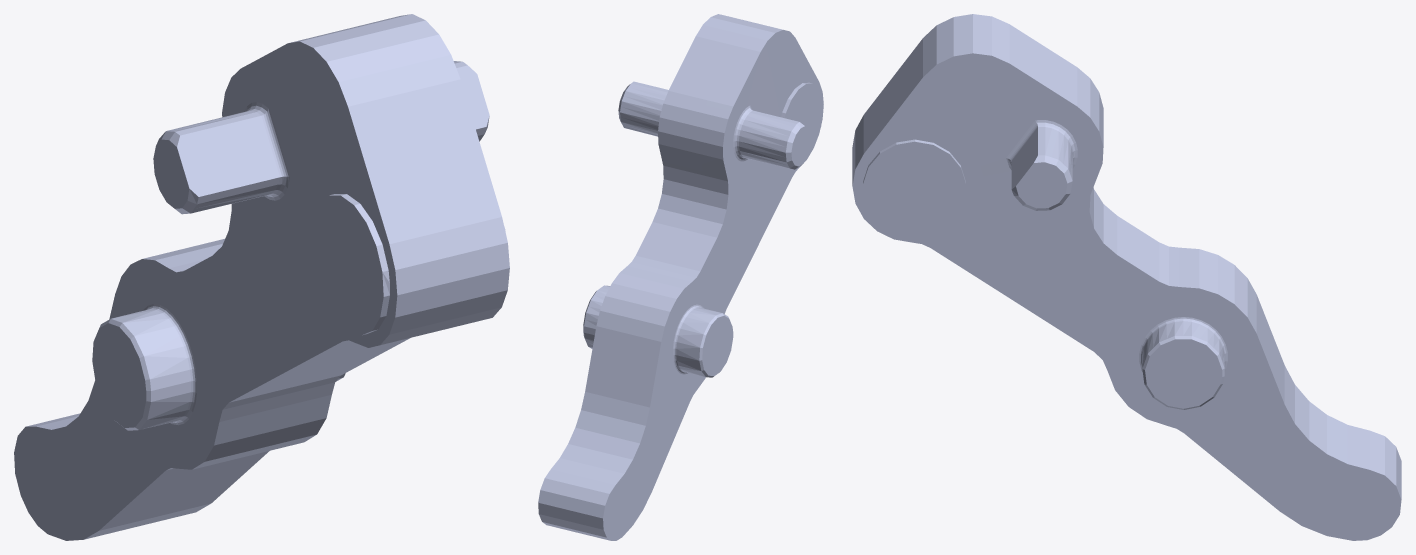
Rendered from robotiq_arg2f_140_outer_knuckle_vis.obj.
The picture shows the model from 3 angles, left to right: view 1: azimuth 30°, elevation 25°; view 2: azimuth 150°, elevation 25°; view 3: azimuth 270°, elevation 25°; orthographic projection. The views are drawn at different scales.
Parts seen in each view (by area): view 1: Robotiq_Arg2F_140_Outer_Knuckle_Vis_Robotiq_Arg2F_140_Outer_Knu; view 2: Robotiq_Arg2F_140_Outer_Knuckle_Vis_Robotiq_Arg2F_140_Outer_Knu; view 3: Robotiq_Arg2F_140_Outer_Knuckle_Vis_Robotiq_Arg2F_140_Outer_Knu.
Boxes of the visible parts, x1,y1,x2,y2 form: Robotiq_Arg2F_140_Outer_Knuckle_Vis_Robotiq_Arg2F_140_Outer_Knu: (14,14,509,540); Robotiq_Arg2F_140_Outer_Knuckle_Vis_Robotiq_Arg2F_140_Outer_Knu: (538,14,823,540); Robotiq_Arg2F_140_Outer_Knuckle_Vis_Robotiq_Arg2F_140_Outer_Knu: (852,14,1401,540).
Bounding box in the file's own units: 0.024 × 0.052 × 0.0531.
